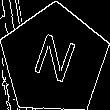N_S: (28, 30, 81, 90)
